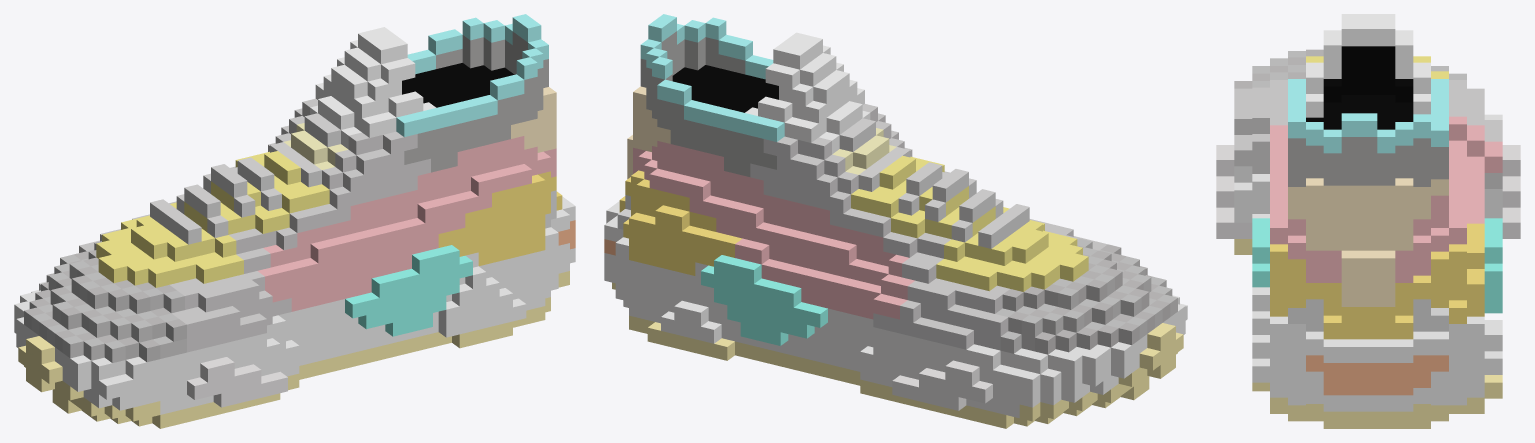
Rendered from Sweet Pastel.fbx.
3 renders of one model, left to right at view 1: azimuth 30°, elevation 25°; view 2: azimuth 150°, elevation 25°; view 3: azimuth 270°, elevation 25°, orthographic. The views are drawn at different scales.
Parts seen in each view (by area): view 1: Untitled; view 2: Untitled; view 3: Untitled.
Boxes of the visible parts, <box> form: Untitled: <box>14,14,575,428</box>; Untitled: <box>604,14,1187,428</box>; Untitled: <box>1216,14,1520,428</box>.
Bounding box in the file's own units: 400 × 200 × 170.
